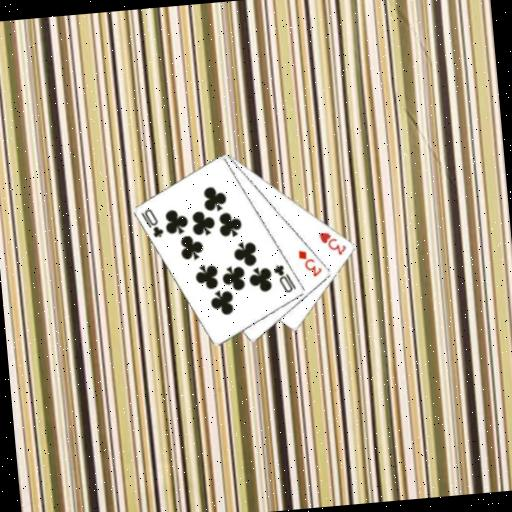10C: (270, 260, 298, 296), (138, 205, 166, 241)
3D: (295, 246, 325, 281)
3H: (316, 227, 349, 259)
